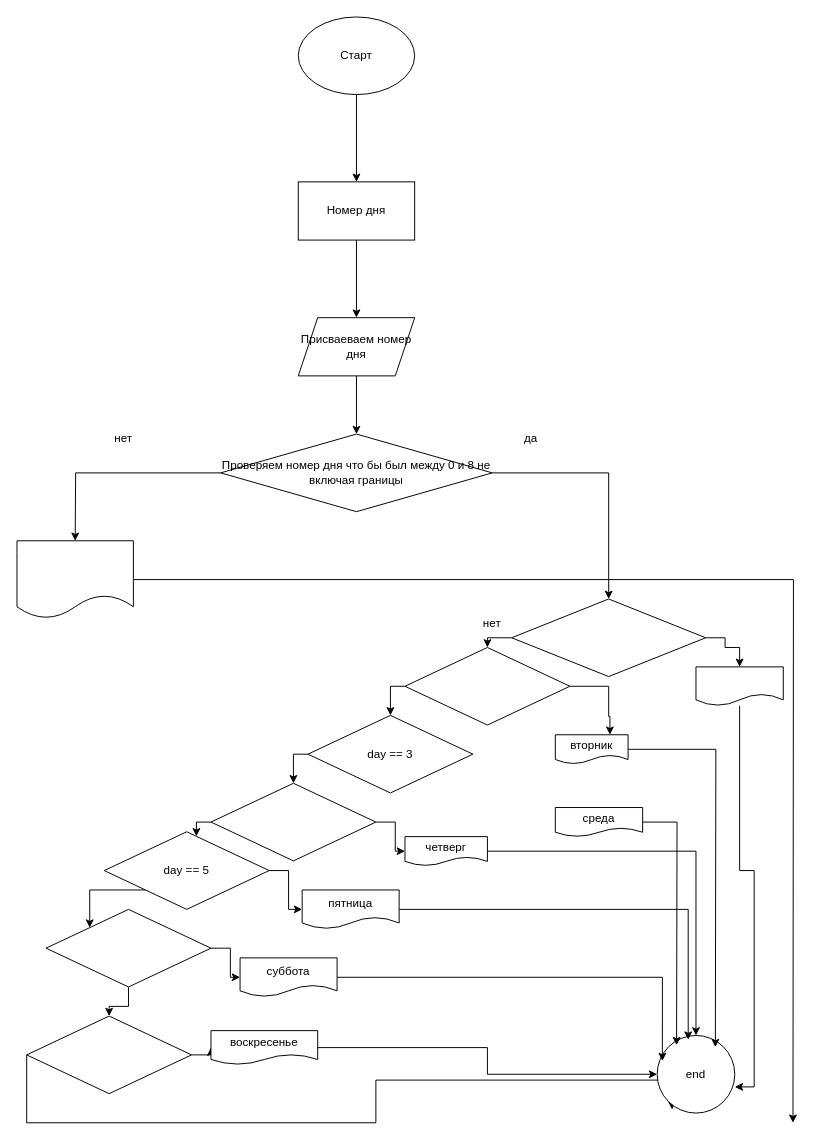
The diagram is 819 pixels wide and 1148 high, and some of its shapes have lost their labels. Here are the shapes that lost their labels. From the top down, the centre of each, then its label:
At (x=74, y=579): "Вы неверно ввели число".
At (x=608, y=637): "day ==1".
At (x=487, y=686): "day ==2".
At (x=739, y=686): "понедельник".
At (x=293, y=821): "day == 4".
At (x=128, y=947): "day ==6".
At (x=109, y=1054): "day == 7".
